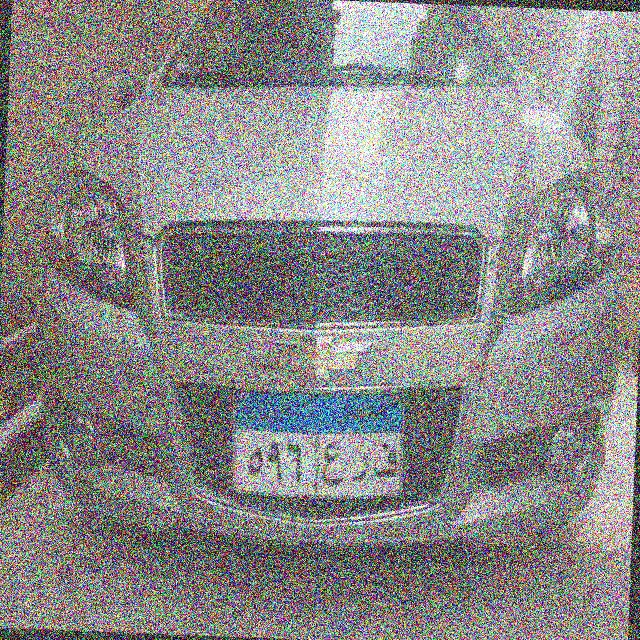License Plate: (227, 383, 409, 507)
